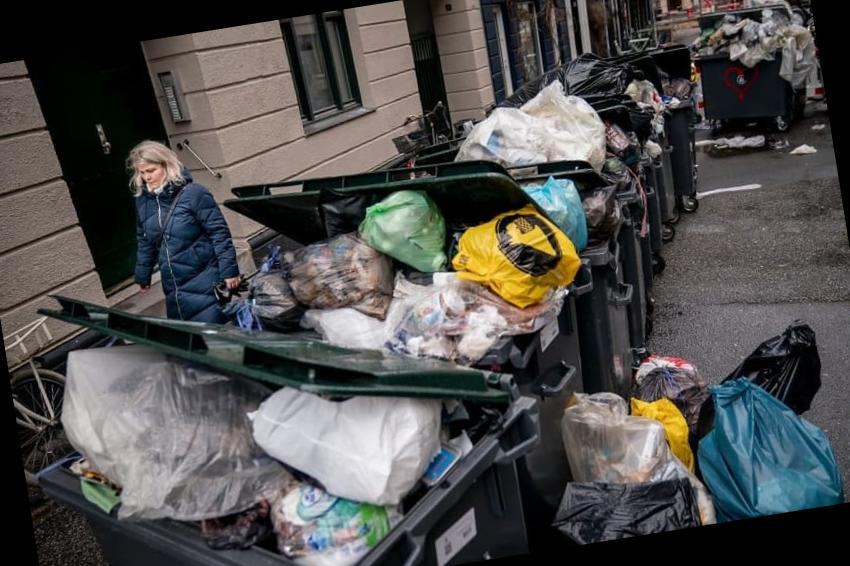road: (647, 114, 850, 500), (252, 387, 440, 505)
trash: (62, 344, 288, 521), (252, 387, 440, 505), (698, 378, 844, 520), (384, 273, 567, 366), (452, 205, 580, 308), (456, 81, 606, 168), (693, 5, 816, 88), (561, 393, 671, 483), (552, 480, 701, 544), (286, 233, 393, 317), (499, 53, 634, 108), (635, 356, 710, 434), (631, 397, 695, 471), (656, 455, 717, 525), (788, 0, 813, 24)
